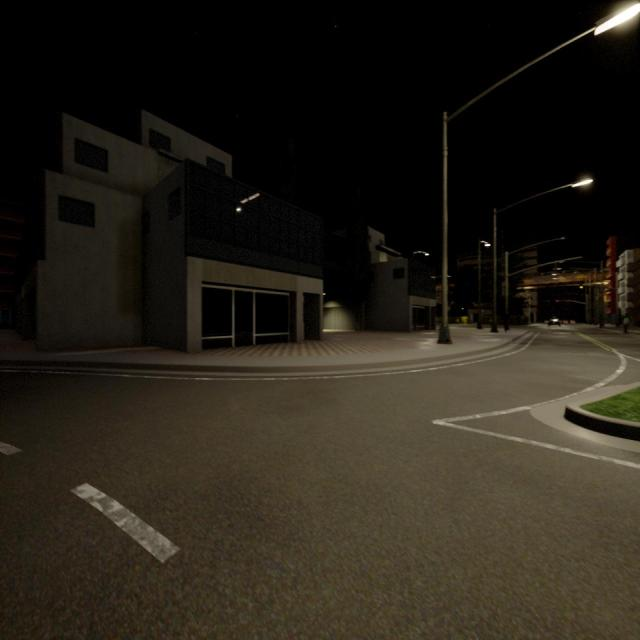Pedestrian: (623, 313, 629, 333)
Vehicle: (548, 317, 559, 326)
traffic_light: (580, 283, 582, 289), (566, 300, 570, 302), (556, 300, 558, 302)
